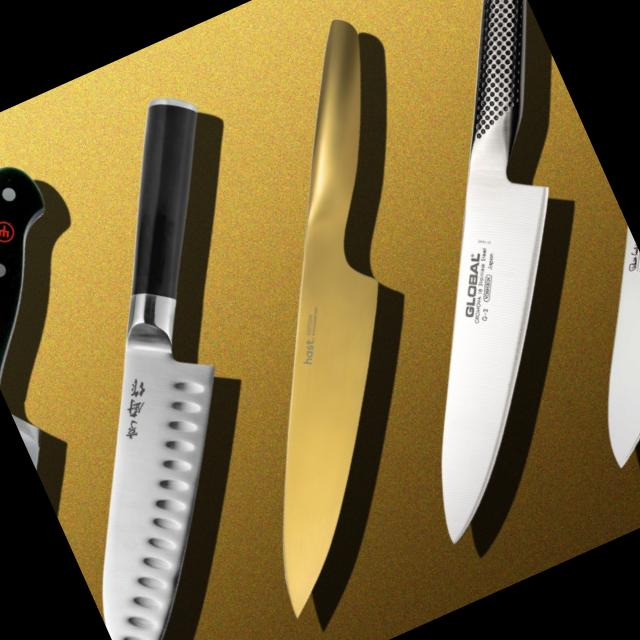Weapon: (77, 6, 583, 634), (219, 0, 640, 561), (0, 74, 407, 640)
